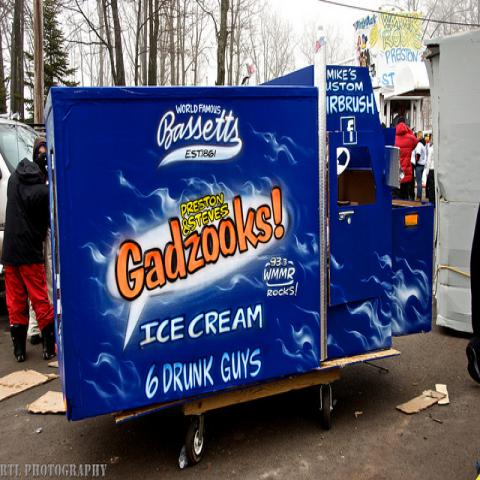car: (0, 120, 40, 246)
truck: (41, 67, 432, 464)
